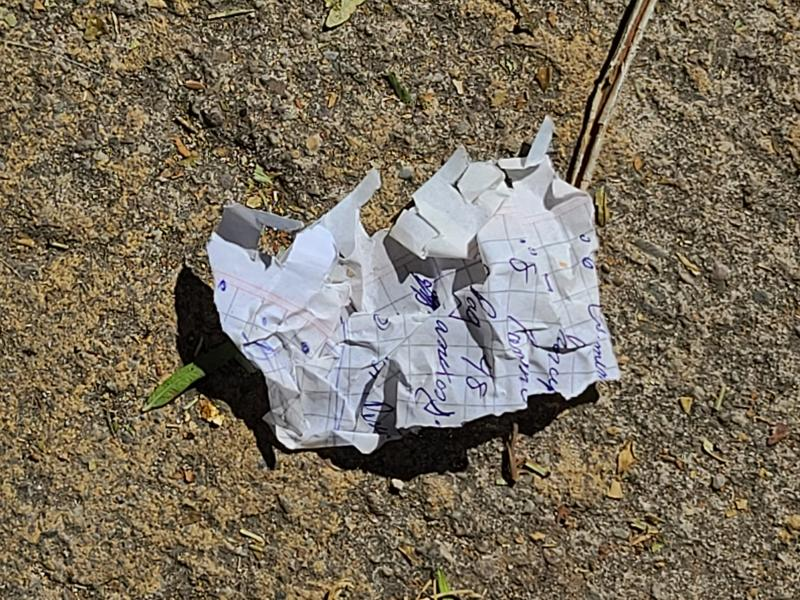papel: (205, 120, 620, 455)
